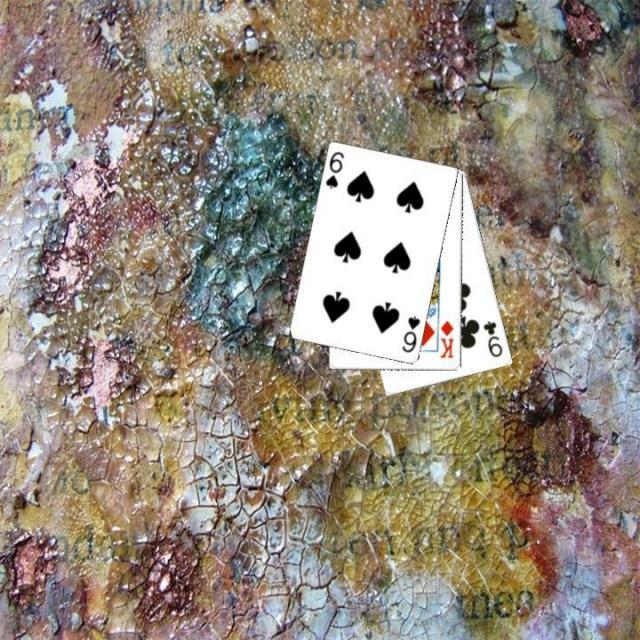6S: (398, 312, 422, 355), (322, 147, 346, 190)
9C: (480, 316, 505, 359)
KD: (437, 316, 455, 360)
